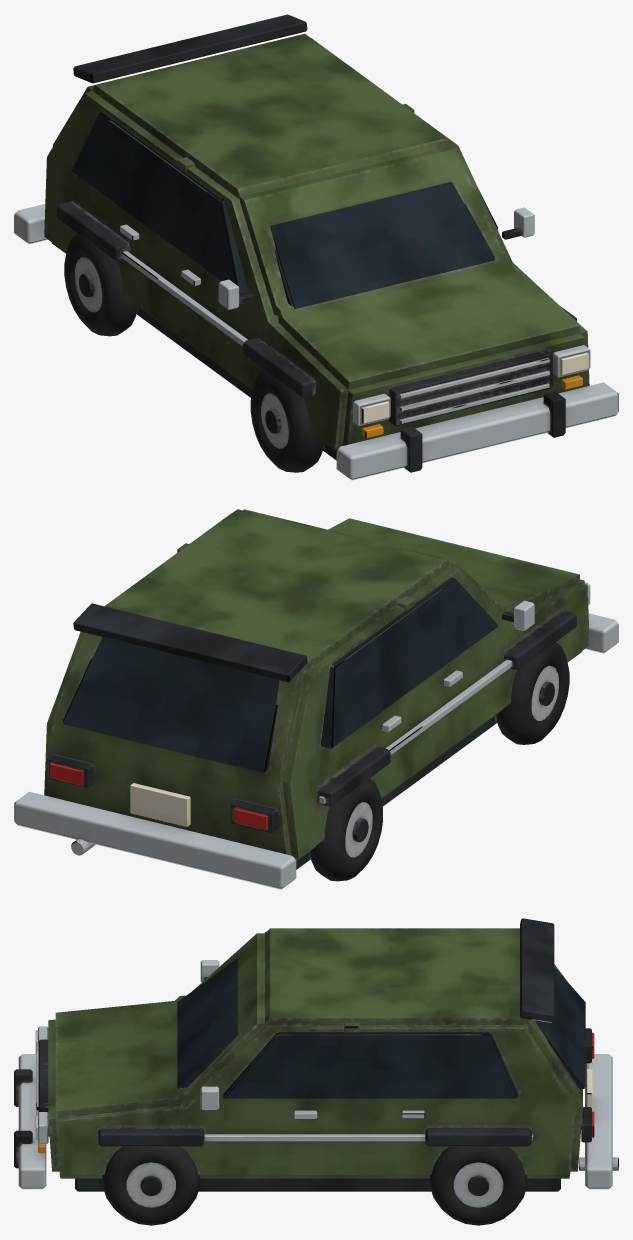
The model's file is car_hatchback_compact.glb.
The picture shows the model from 3 angles, top to bottom: view 1: azimuth 30°, elevation 25°; view 2: azimuth 150°, elevation 25°; view 3: azimuth 270°, elevation 25°; orthographic projection. The views are drawn at different scales.
Parts seen in each view (by area): view 1: CarHatchbackCompact; view 2: CarHatchbackCompact; view 3: CarHatchbackCompact.
Boxes of the visible parts, left/top/right/bottom form: CarHatchbackCompact: left=14, top=14, right=618, bottom=480; CarHatchbackCompact: left=14, top=509, right=618, bottom=889; CarHatchbackCompact: left=14, top=918, right=618, bottom=1225.
Bounding box in the file's own units: 2.02 × 1.49 × 3.92.
Materials: 1 (1 with a texture image).
